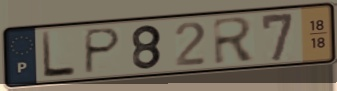2: (173, 20, 208, 68)
7: (260, 11, 298, 63)
8: (130, 23, 164, 72)
L: (40, 30, 78, 81)
P: (82, 26, 124, 77)
R: (210, 15, 258, 67)
